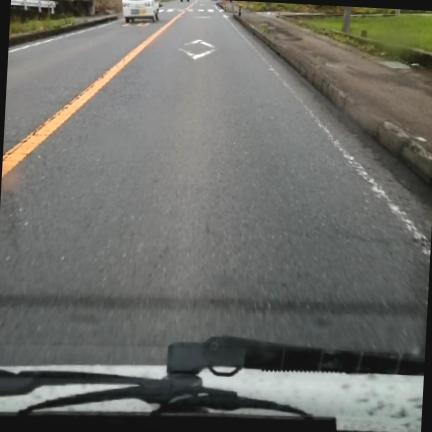Road: (0, 0, 431, 365)
